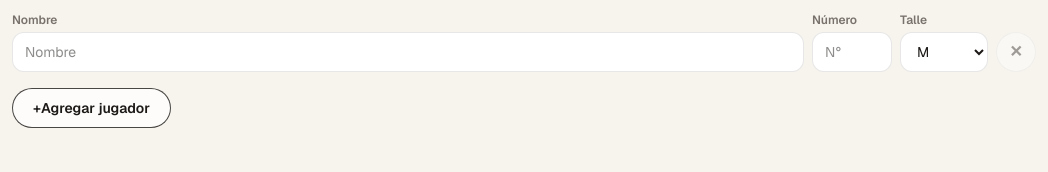
Test: RosterTable › edits name and number, keeping the number to two digits
Type "Messi" into the field named "Nombre del jugador 1".
click(408, 52); type("Messi")  # box [12,32,804,72]
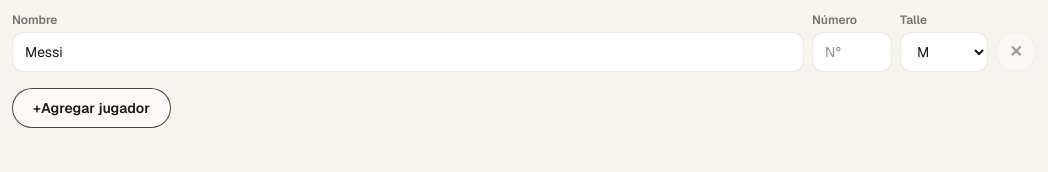
Type "1a0b9" into the field named "Número del jugador 1".
click(852, 52); type("1a0b9")  # box [812,32,892,72]
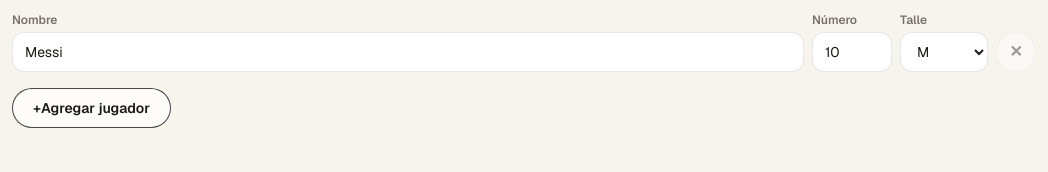
Expected: the field named "Número del jugador 1" holds "10", [812,32,892,72]
